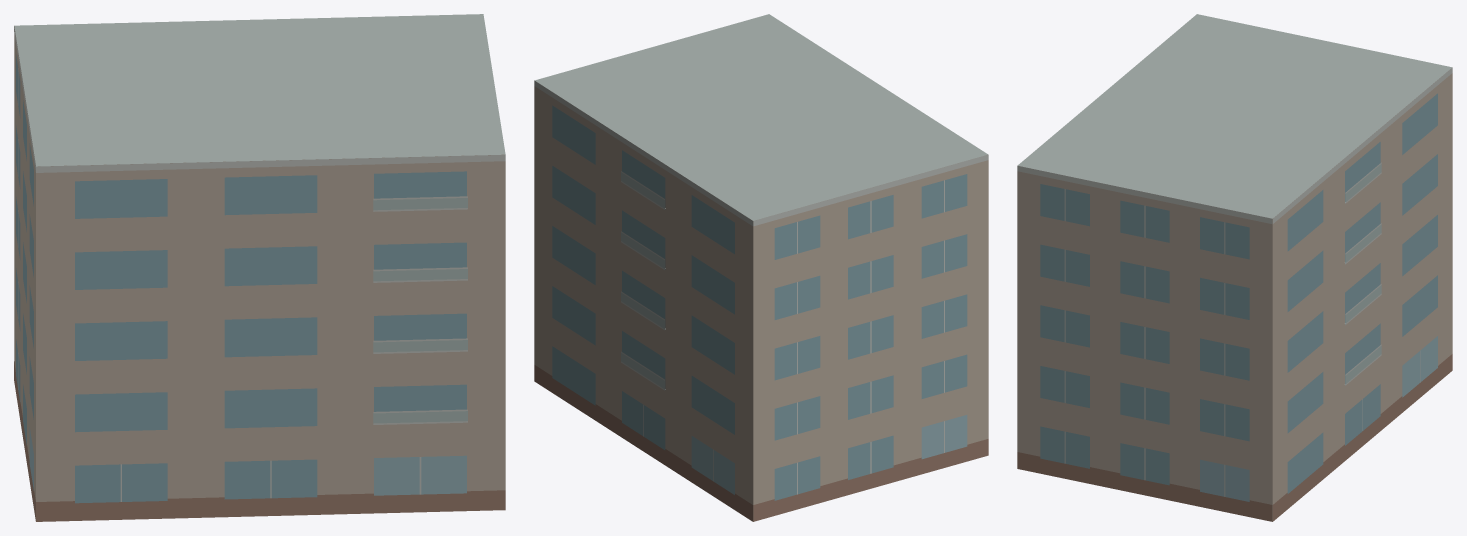
File: survey-upis-32885014.glb
The picture shows the model from 3 angles, left to right: view 1: azimuth 30°, elevation 25°; view 2: azimuth 150°, elevation 25°; view 3: azimuth 270°, elevation 25°; orthographic projection. The views are drawn at different scales.
Parts seen in each view (by area): view 1: survey-upis-32885014.tmp; view 2: survey-upis-32885014.tmp; view 3: survey-upis-32885014.tmp.
Part boxes in pixels (x1,y1,x2,y2): survey-upis-32885014.tmp: (14,14,505,521); survey-upis-32885014.tmp: (534,14,988,521); survey-upis-32885014.tmp: (1017,14,1452,521).
Size of the model in its own units: 19.27 by 13.3 by 17.31.
